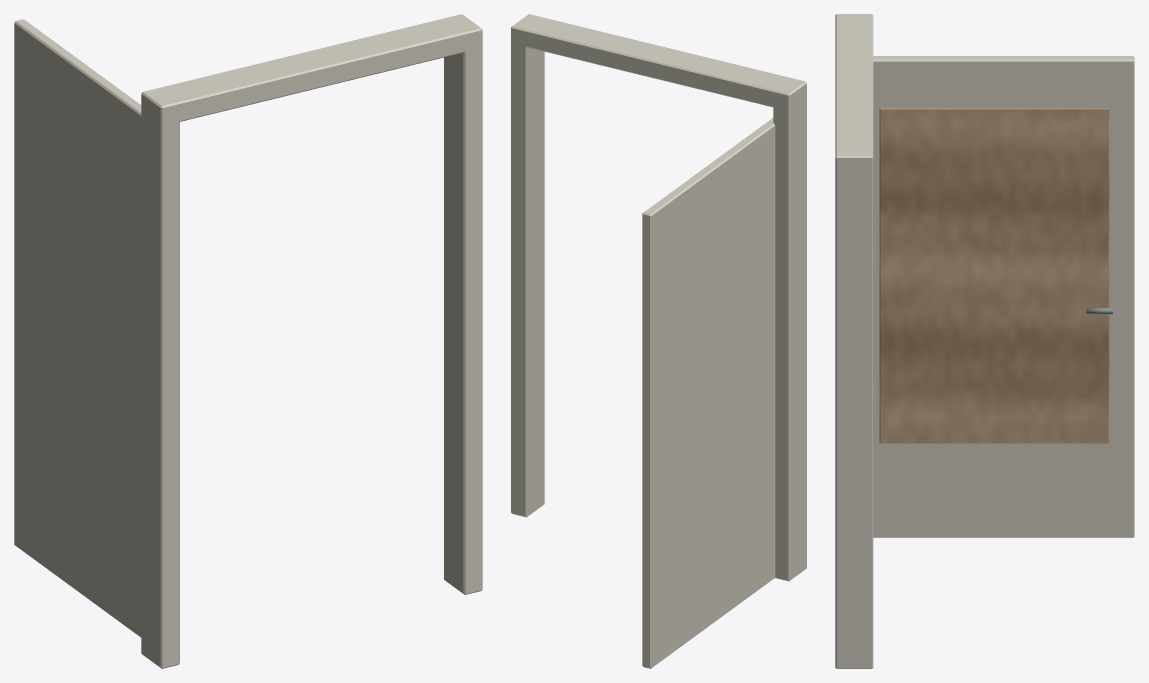
File: door-open.glb
3 views of the same model, side by side, from view 1: azimuth 30°, elevation 25°; view 2: azimuth 150°, elevation 25°; view 3: azimuth 270°, elevation 25° (orthographic). The views are drawn at different scales.
Parts seen in each view (by area): view 1: door-open; view 2: door-open; view 3: door-open.
Part boxes in pixels (box(x1,y1,x2,y2)): door-open: box(14, 14, 482, 668); door-open: box(511, 14, 806, 668); door-open: box(835, 14, 1134, 668).
Size of the model in its own units: 1.33 by 2.22 by 1.18.
Materials: 3 (1 with a texture image).
